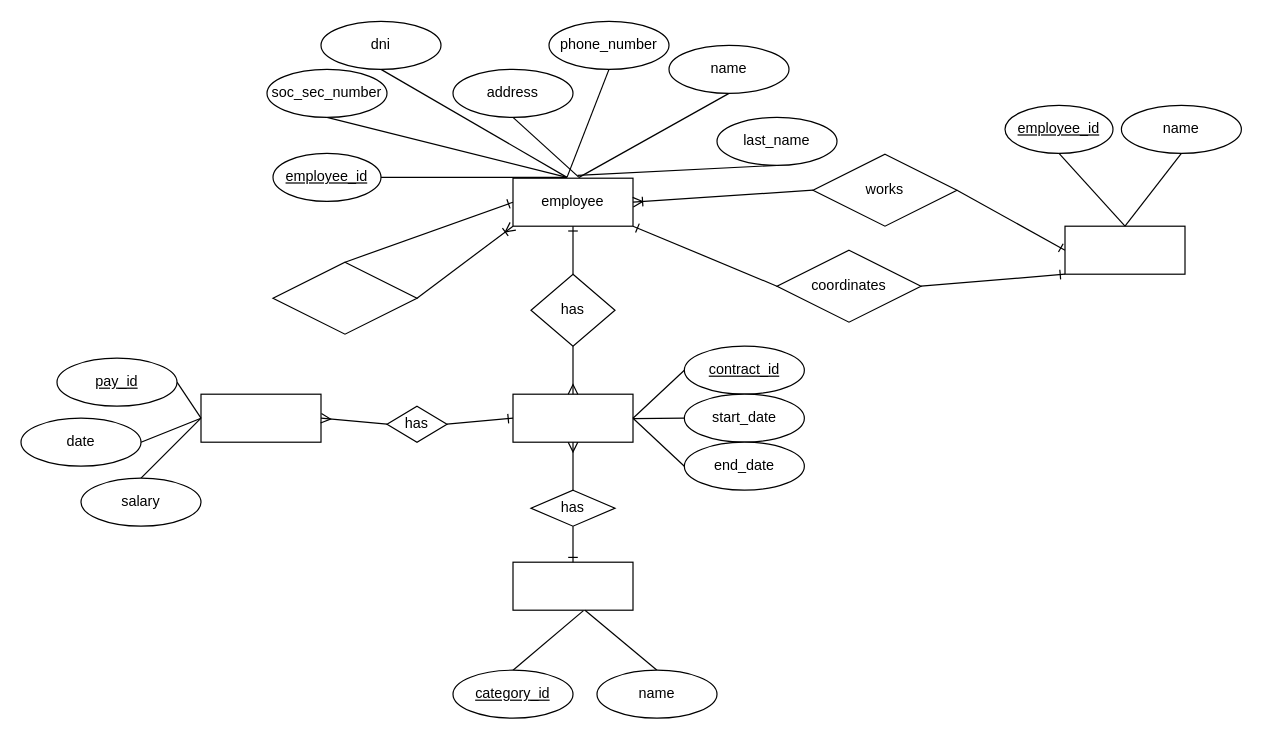
The diagram is 1262 pixels wide and 739 high, and some of its shapes have lost their labels. The box of each missing label's shape, as (x1, y1, x2, y2) in pixels:
category: (512, 561, 633, 610)
contract: (512, 393, 633, 442)
department: (1064, 225, 1185, 274)
is responsible: (272, 261, 417, 334)
paycheck: (200, 393, 321, 442)
